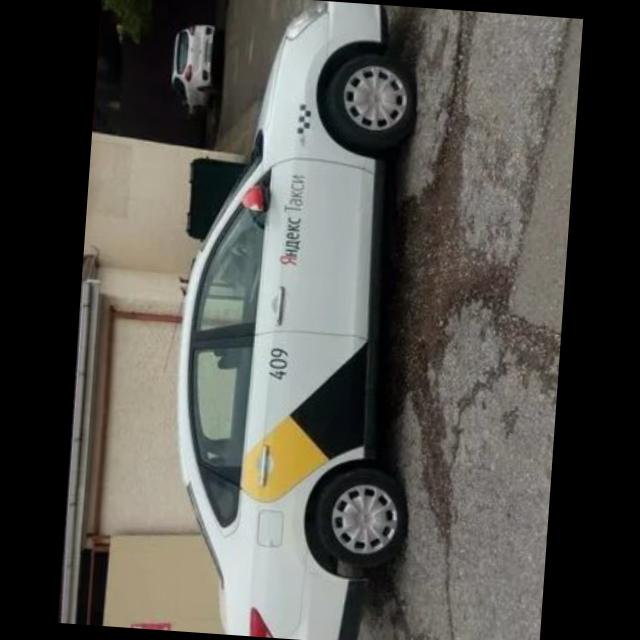taxi: (156, 1, 442, 640)
